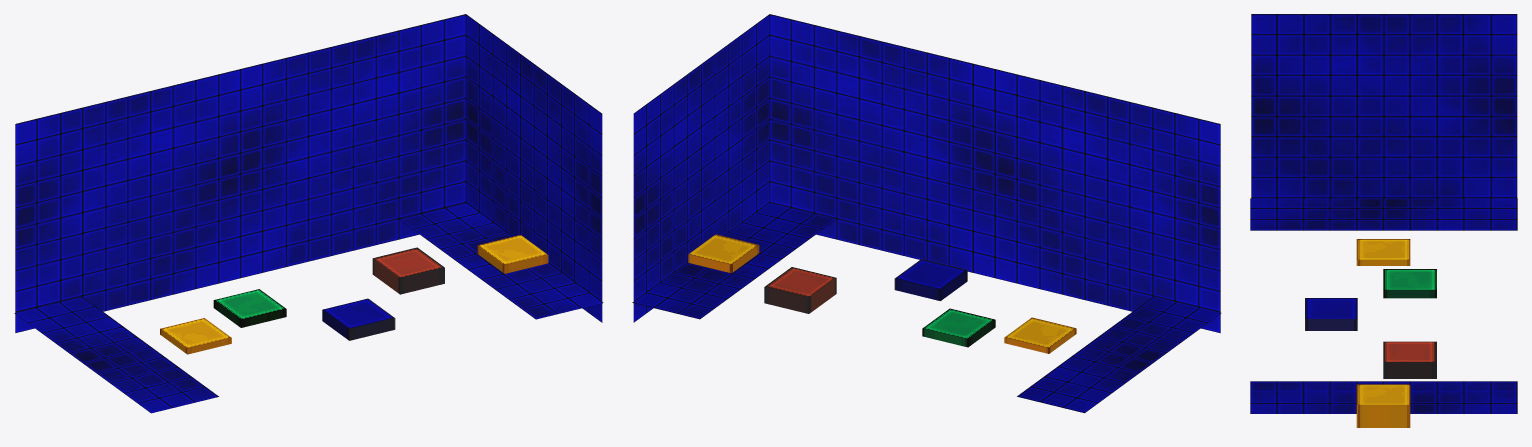
The model's file is VRRoom.glb.
The picture shows the model from 3 angles, left to right: view 1: azimuth 30°, elevation 25°; view 2: azimuth 150°, elevation 25°; view 3: azimuth 270°, elevation 25°; orthographic projection. The views are drawn at different scales.
Parts seen in each view (by area): view 1: VRRoom; view 2: VRRoom; view 3: VRRoom.
Part boxes in pixels (box(x1,y1,x2,y2)): VRRoom: box(14, 14, 603, 413); VRRoom: box(632, 14, 1221, 413); VRRoom: box(1250, 14, 1517, 427).
Bounding box in the file's own units: 17641 × 7791 × 9250.
Materials: 6 (6 with a texture image).
